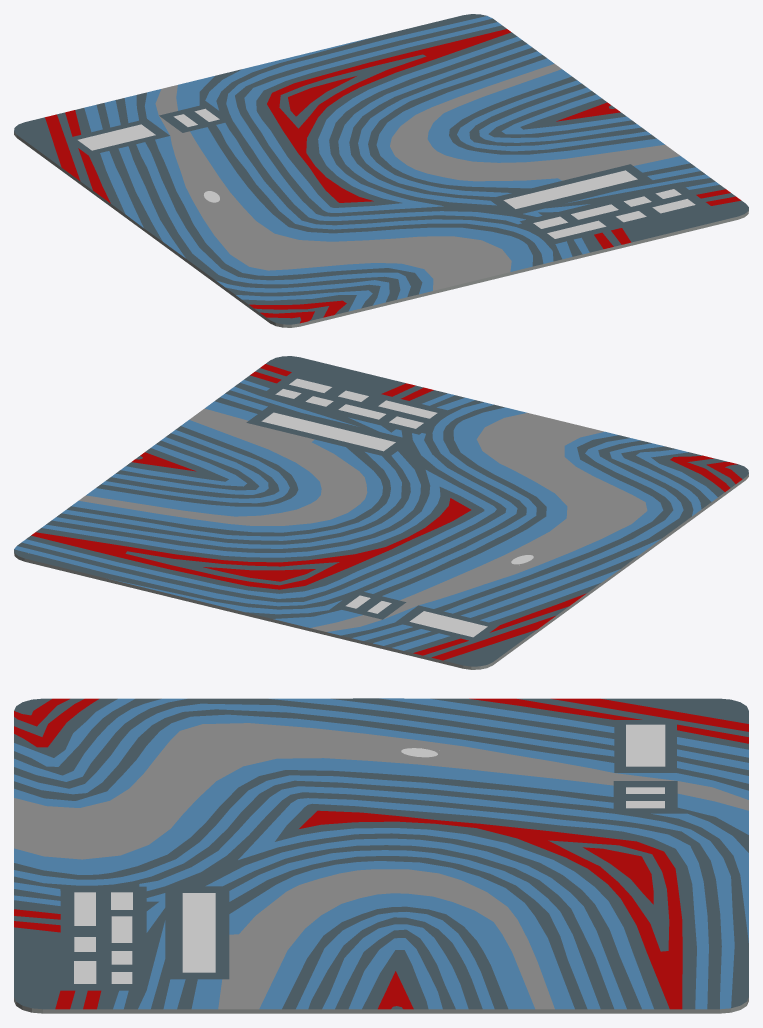
3 views of the same model, one above another, from view 1: azimuth 30°, elevation 25°; view 2: azimuth 150°, elevation 25°; view 3: azimuth 270°, elevation 25° (orthographic). The views are drawn at different scales.
Visible parts, largest first — view 1: world; view 2: world; view 3: world.
Part boxes in pixels (bbox=[...]): world: bbox=[14, 14, 748, 327]; world: bbox=[14, 356, 748, 669]; world: bbox=[14, 698, 748, 1013].
Bounding box in the file's own units: 0.0152 × 0.0001 × 0.0152.
